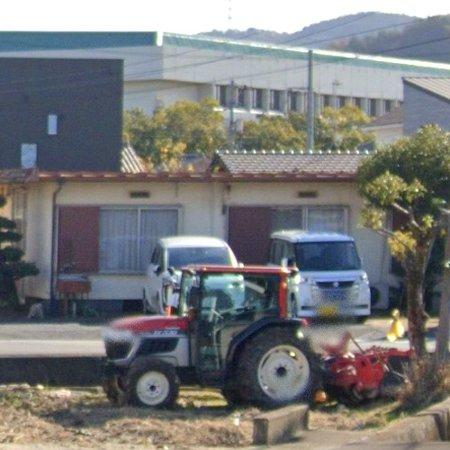tractors: (104, 267, 320, 409)
